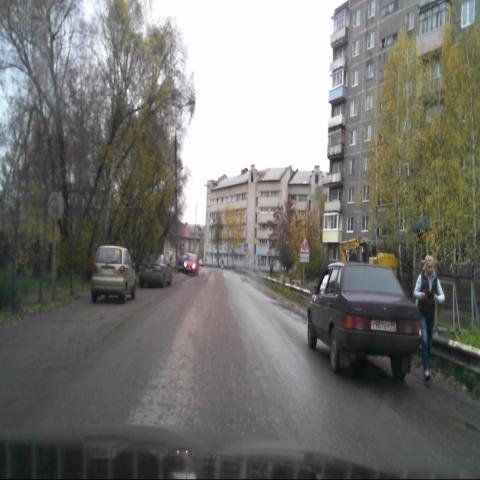1_23: (299, 236, 310, 254)
